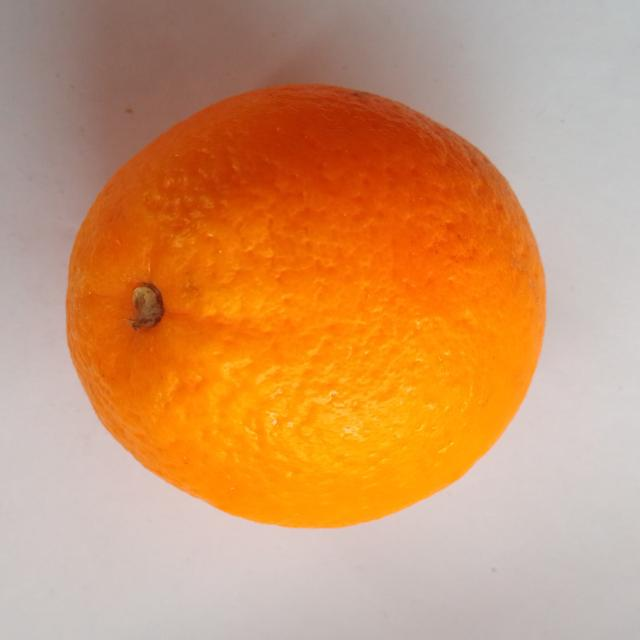orange: (68, 86, 544, 527)
